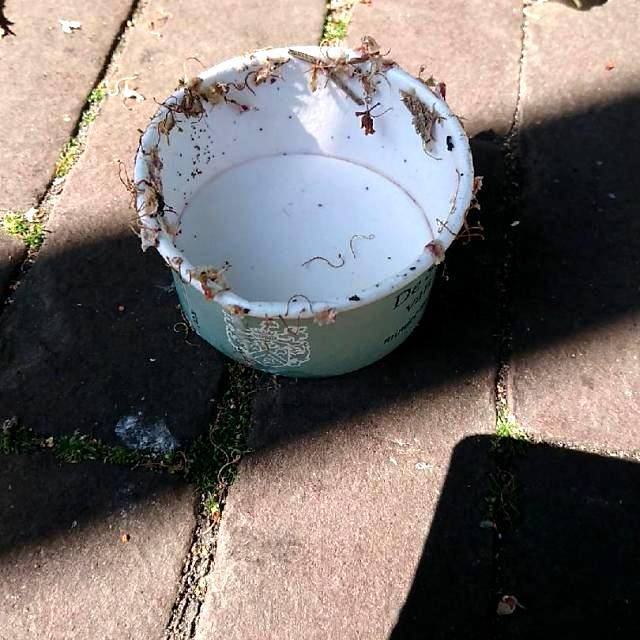Paper: (128, 37, 480, 386)
